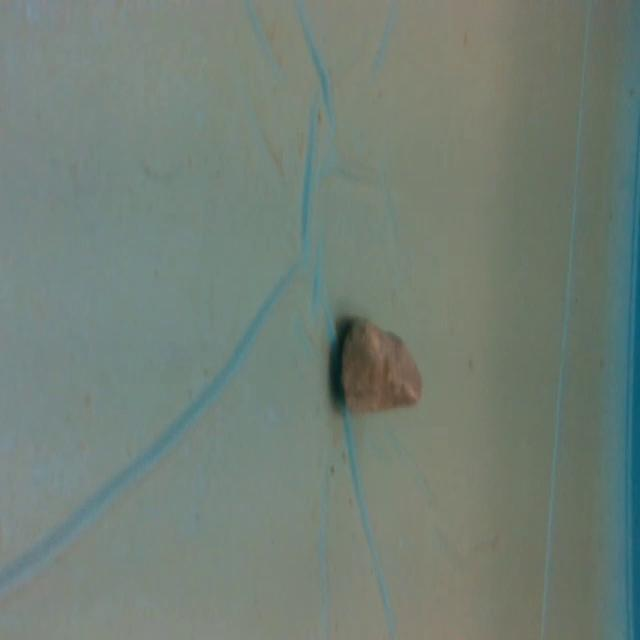rock: (336, 312, 434, 425)
